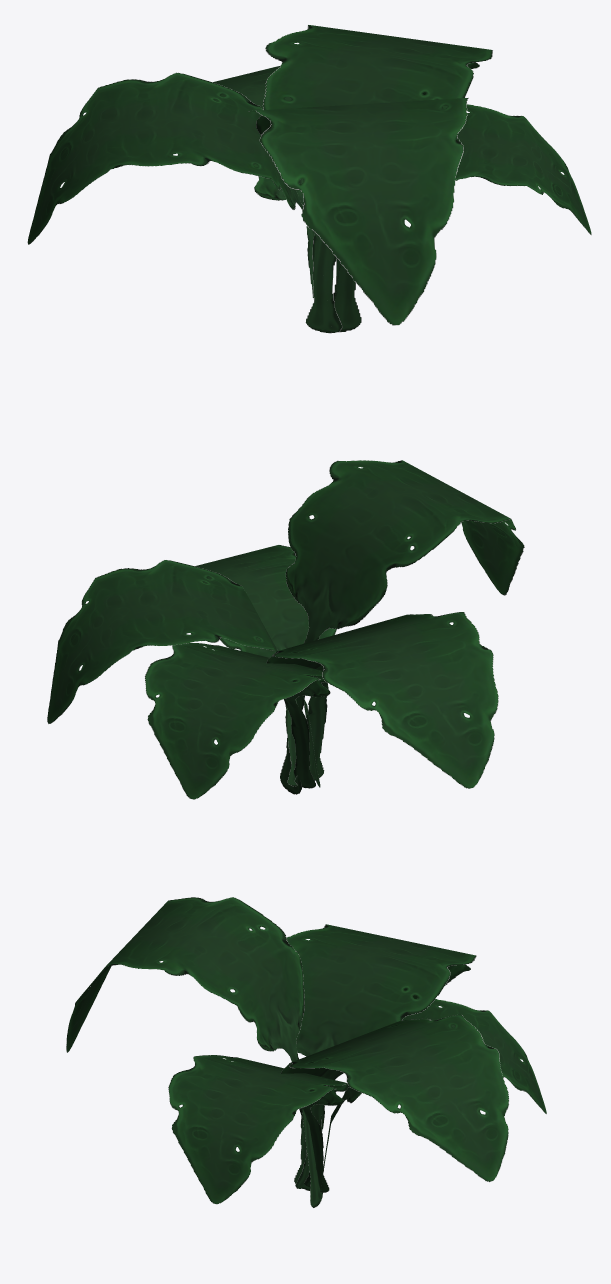
Rendered from BigLeafPlant.fbx.
The picture shows the model from 3 angles, top to bottom: view 1: azimuth 30°, elevation 25°; view 2: azimuth 150°, elevation 25°; view 3: azimuth 270°, elevation 25°; orthographic projection. The views are drawn at different scales.
Parts seen in each view (by area): view 1: polySurface1; view 2: polySurface1; view 3: polySurface1.
Boxes of the visible parts, x1,y1,x2,y2 form: polySurface1: (27, 25, 591, 333); polySurface1: (47, 460, 524, 799); polySurface1: (66, 897, 546, 1207).
Bounding box in the file's own units: 4.87 × 2.37 × 4.86.
